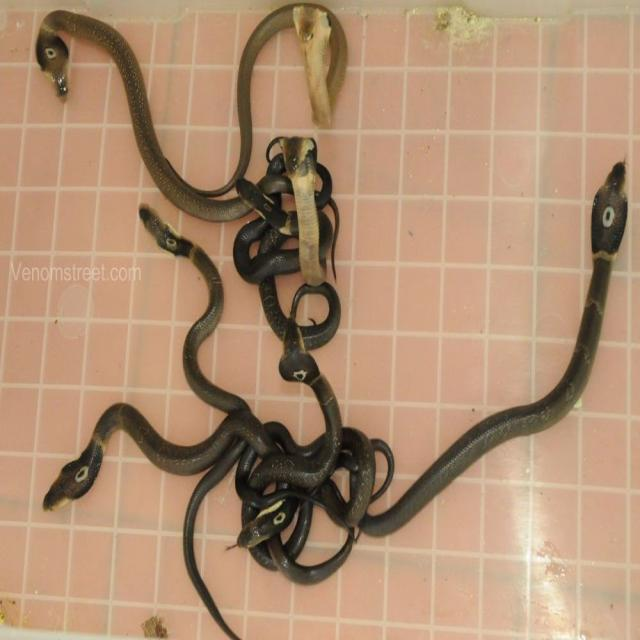Snake: (34, 1, 628, 636)
